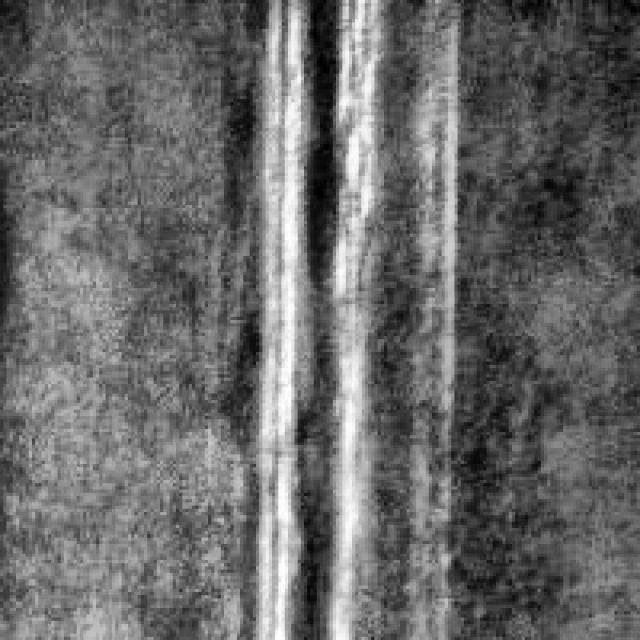Inclusion: (243, 0, 307, 630), (326, 0, 390, 630), (413, 38, 461, 381)
